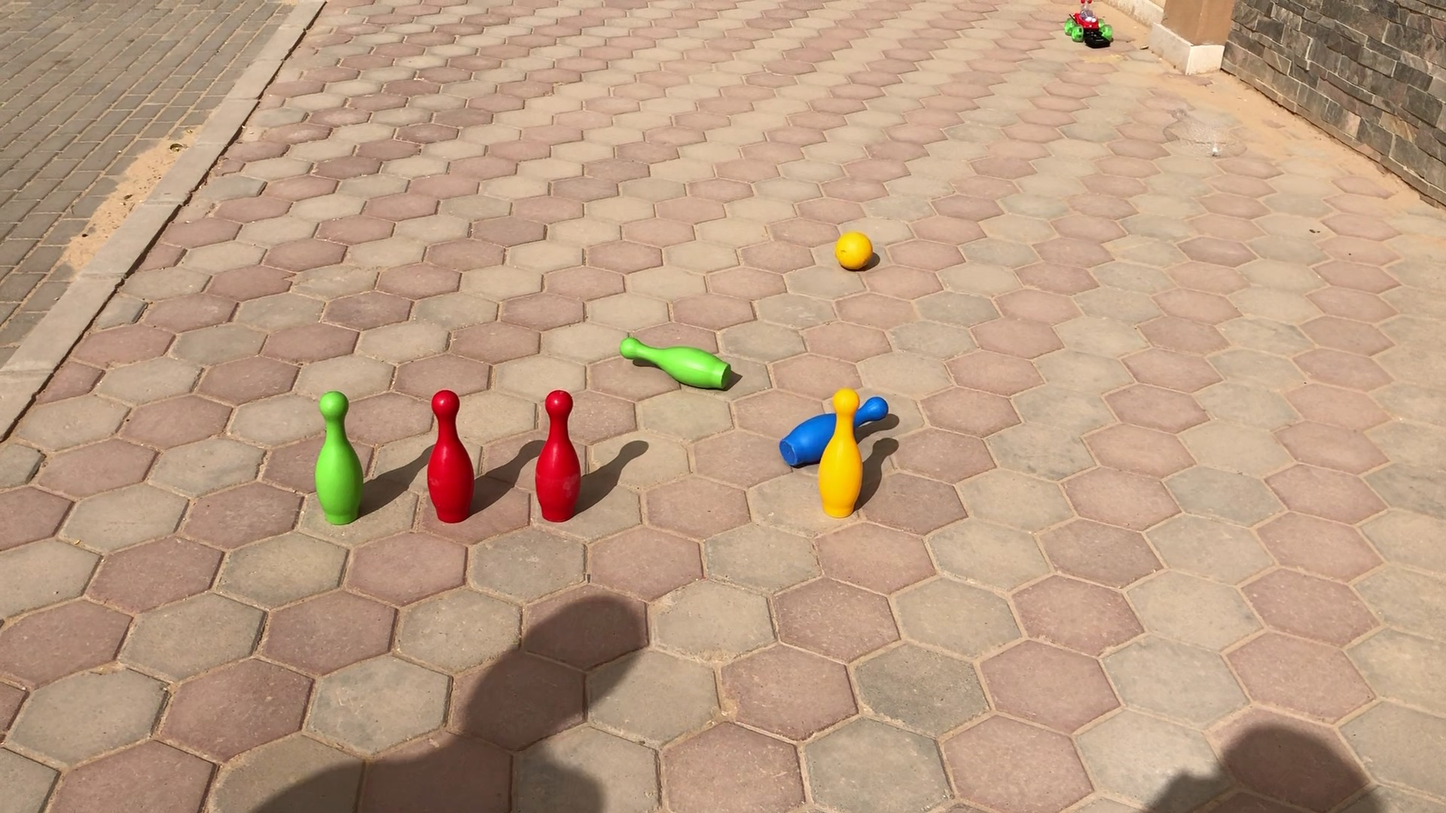pin: (814, 384, 871, 533), (311, 392, 362, 524), (424, 389, 474, 522), (781, 405, 892, 463), (535, 390, 582, 522), (620, 335, 736, 388)
